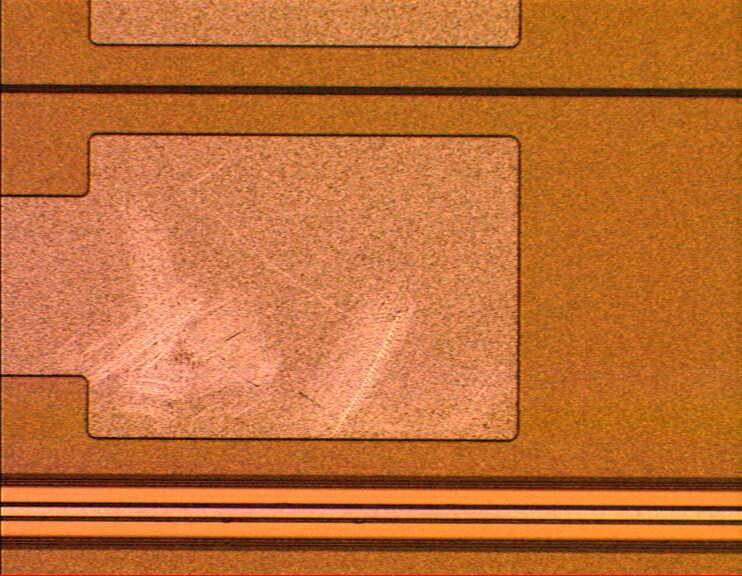SCRATCH: (29, 155, 519, 442)
